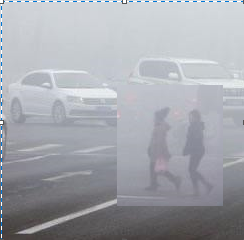person: (144, 106, 182, 192), (180, 111, 214, 196)
